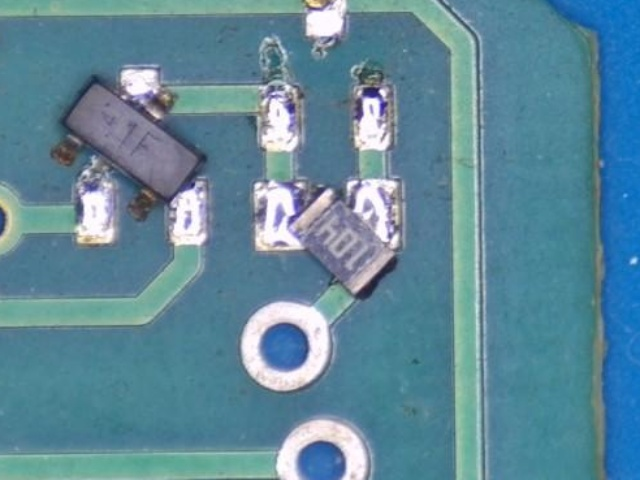pcb_defect: (49, 66, 211, 245), (254, 178, 404, 300), (215, 0, 366, 37)
